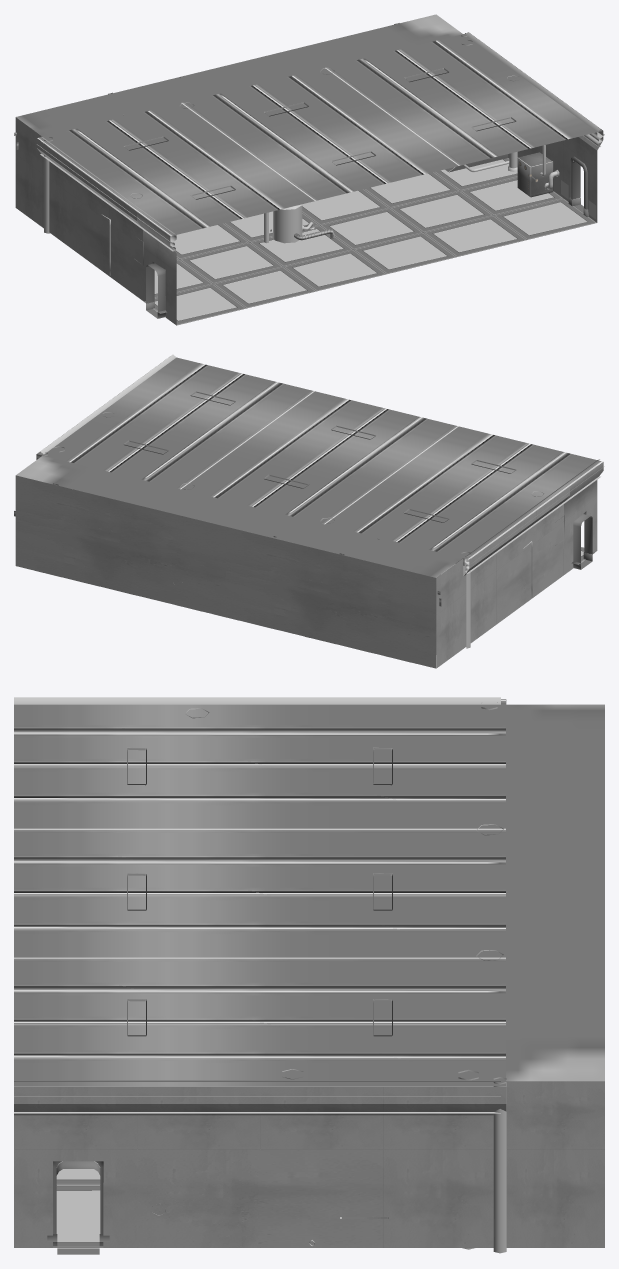
File: MSH_Water_Purification_room_L1_R3_optimized.fbx
3 renders of one model, top to bottom at view 1: azimuth 30°, elevation 25°; view 2: azimuth 150°, elevation 25°; view 3: azimuth 270°, elevation 25°, orthographic. The views are drawn at different scales.
Visible parts, largest first — view 1: lightmap0, lightmap-1; view 2: lightmap0, lightmap-1; view 3: lightmap0.
Part boxes in pixels (x1,y1,x2,y2): lightmap0: [14, 14, 604, 325]; lightmap-1: [146, 161, 583, 318]; lightmap0: [14, 354, 604, 668]; lightmap-1: [573, 514, 592, 569]; lightmap0: [14, 697, 604, 1253].
Bounding box in the file's own units: 30.99 × 6.94 × 19.83.
